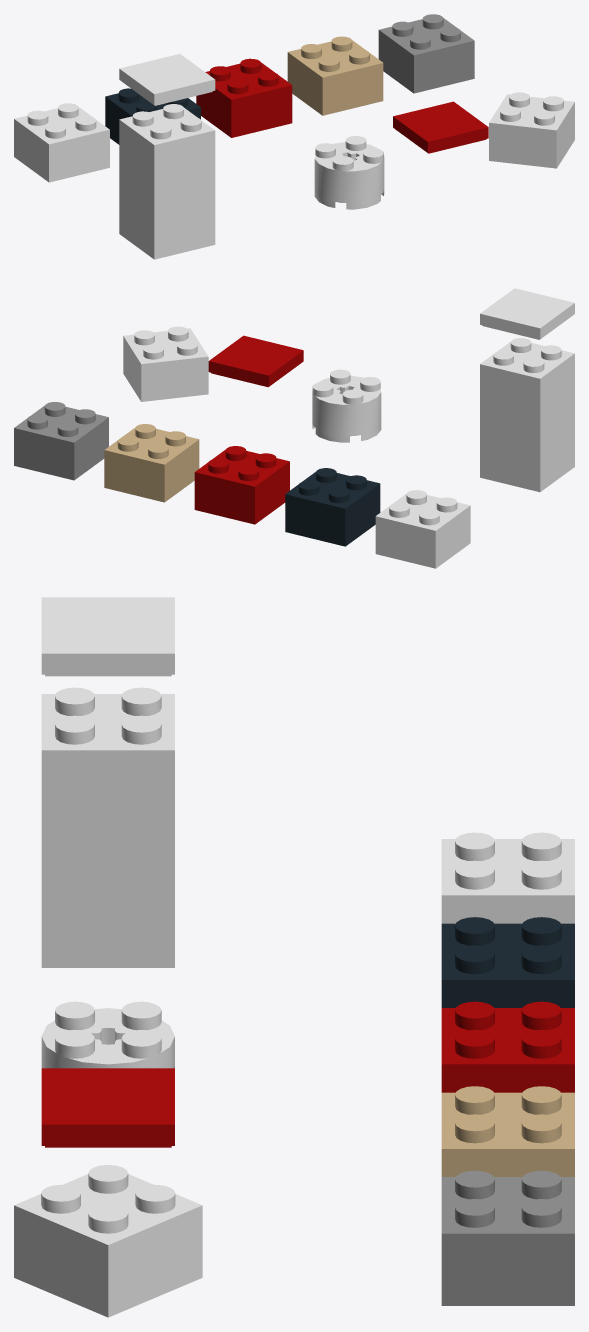
File: calib_az90.dae
The picture shows the model from 3 angles, top to bottom: view 1: azimuth 30°, elevation 25°; view 2: azimuth 150°, elevation 25°; view 3: azimuth 270°, elevation 25°; orthographic projection. The views are drawn at different scales.
Parts seen in each view (by area): view 1: 3003 (×9), 3068b (×2), 3941; view 2: 3003 (×9), 3068b (×2), 3941; view 3: 3003 (×9), 3068b (×2), 3941.
Boxes of the visible parts, x1,y1,x2,y2 form: 3003 (×9): (14, 14, 574, 259); 3068b (×2): (119, 54, 488, 153); 3941: (314, 136, 384, 209); 3003 (×9): (14, 326, 574, 568); 3068b (×2): (208, 288, 574, 387); 3941: (312, 369, 381, 442); 3003 (×9): (14, 687, 574, 1317); 3068b (×2): (41, 597, 174, 1147); 3941: (41, 1001, 174, 1068).
Bounding box in the file's own units: 288 × 104 × 168.
